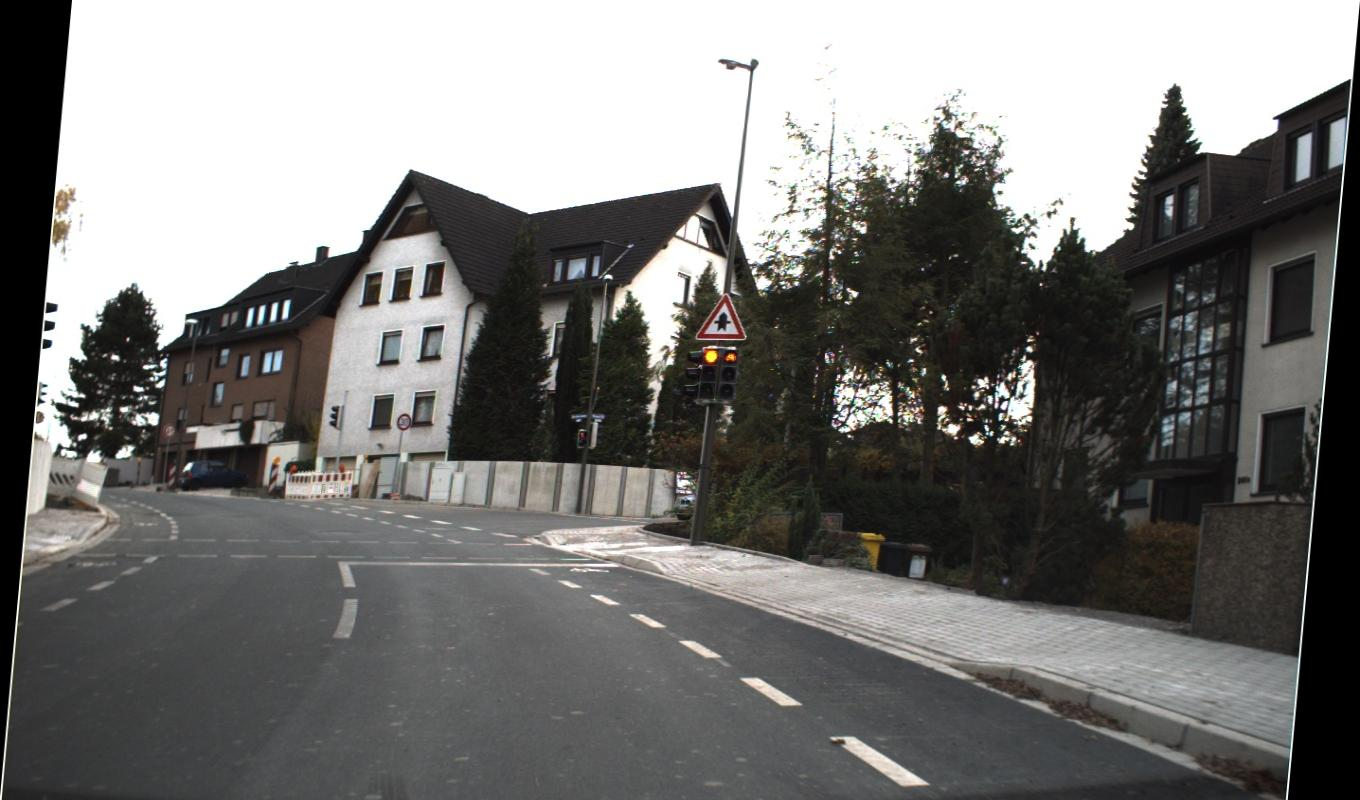speed limit 30: (395, 292, 752, 431)
